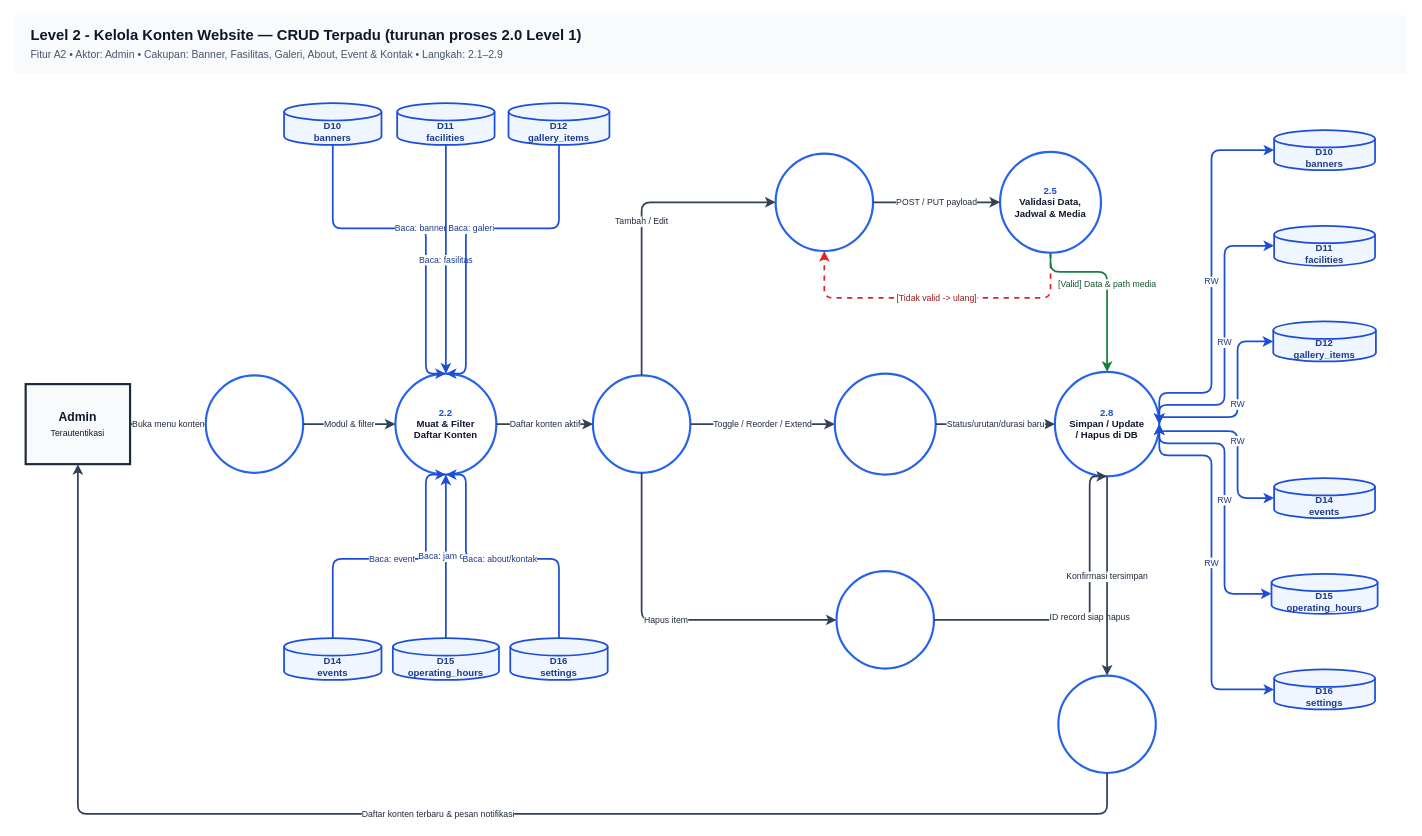
Image size: 1422x836. Some labels were removed from this diagram. The shapes that lost their labels are listed below. From the top down, each one's centre as x and y in pixels, then its label:
At point 824,202: "2.4 Isi / Ubah Form & Media".
At point 254,424: "2.1 Pilih Modul Konten Web".
At point 641,424: "2.3 Pilih Aksi Pengelolaan".
At point 884,423: "2.6 Toggle / Urutkan / Perpanjang".
At point 885,619: "2.7 Hapus File Media Fisik".
At point 1106,724: "2.9 Tampilkan Daftar & Notifikasi".
